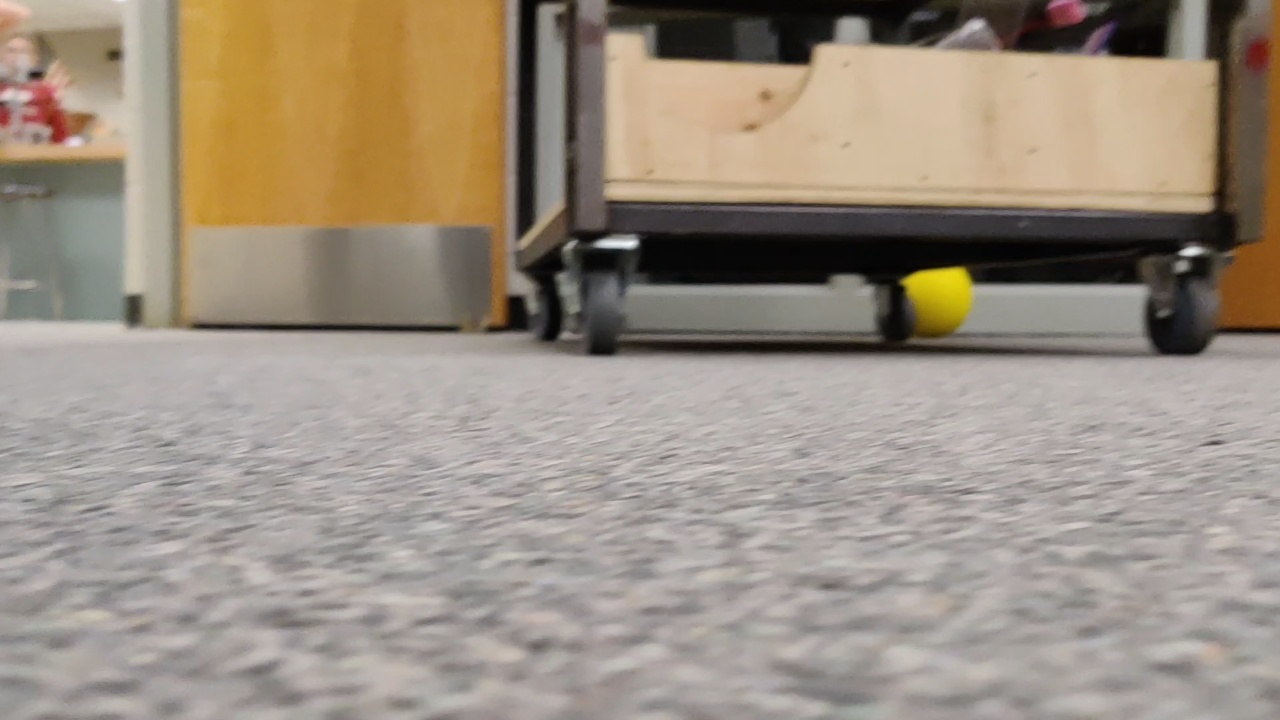Ball: (900, 264, 977, 343)
